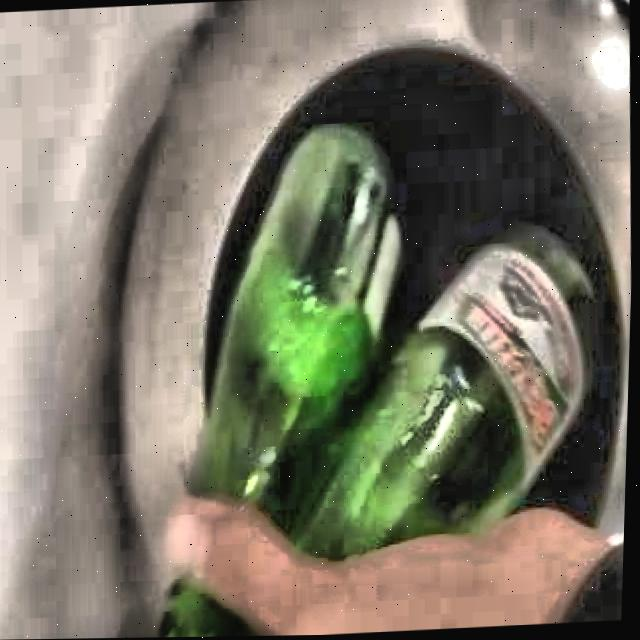glass: (199, 124, 588, 563)
